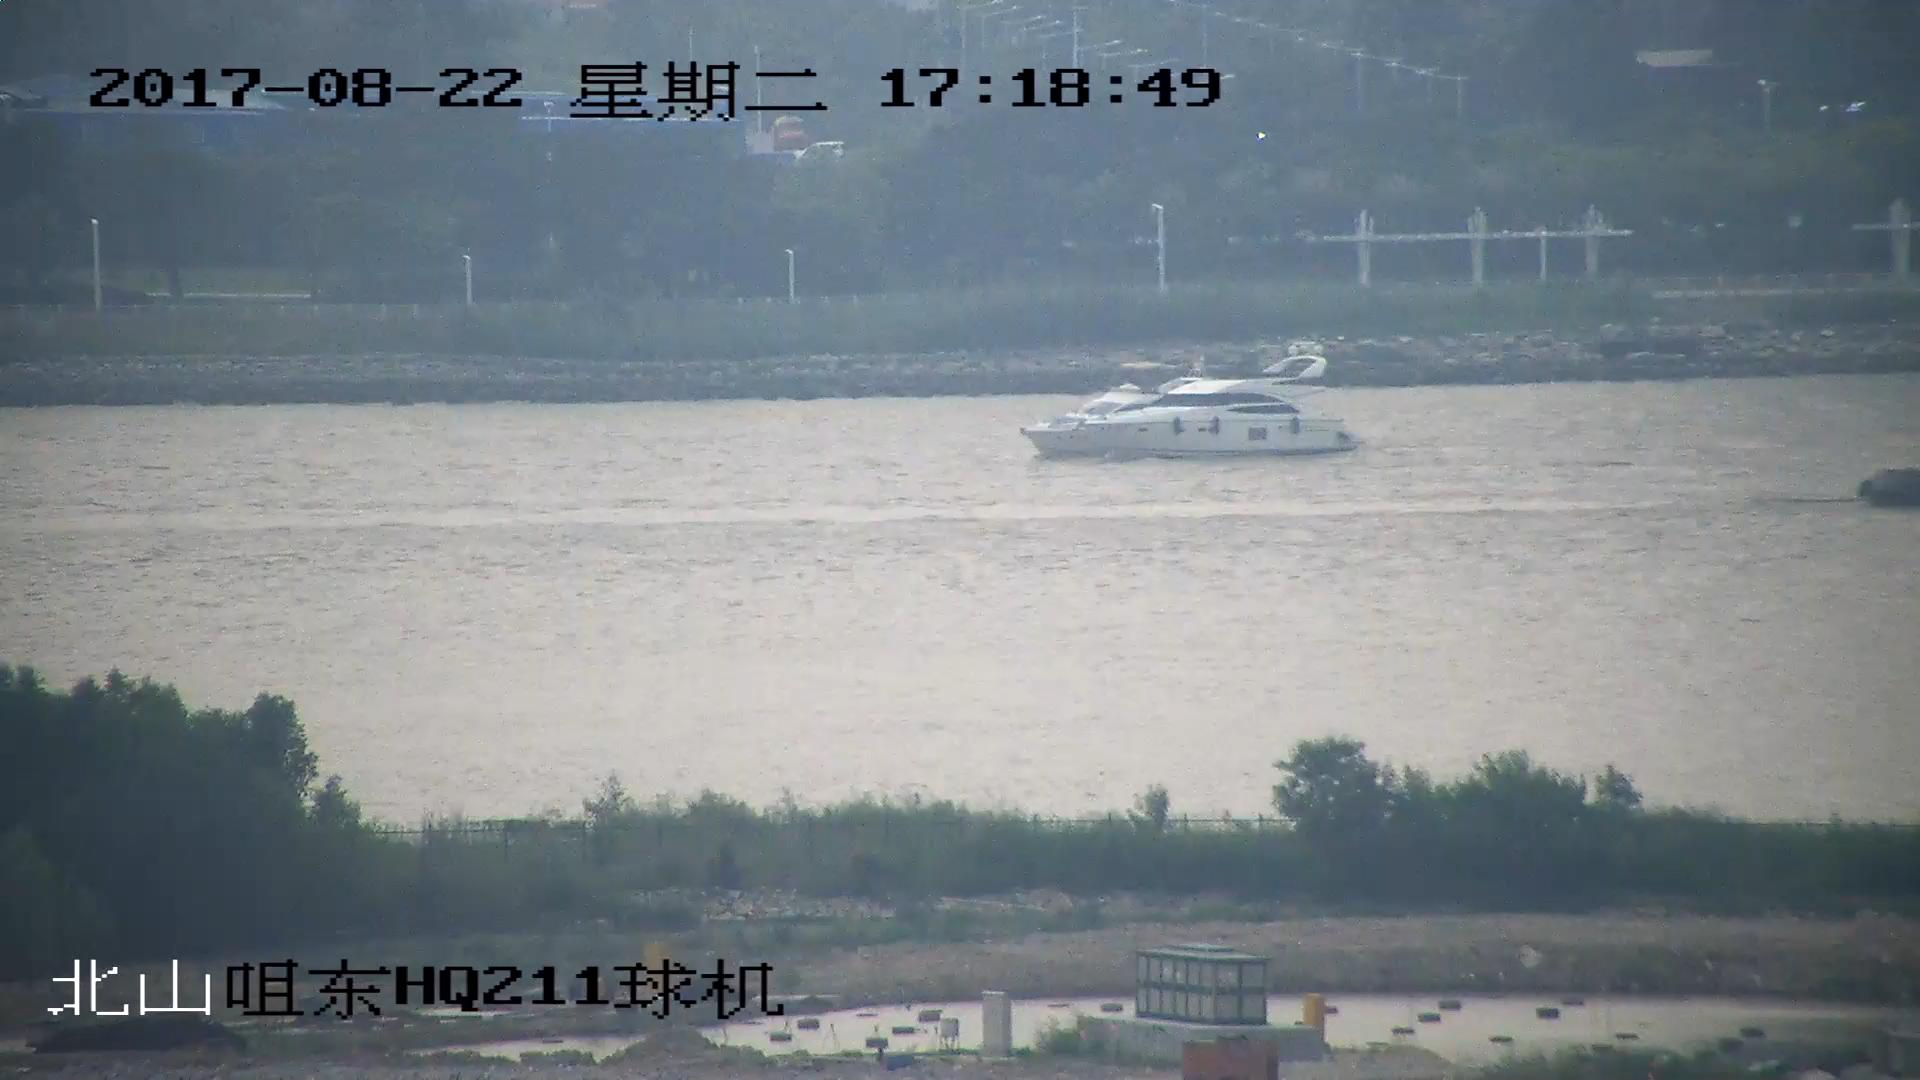passenger ship: (1020, 351, 1356, 459)
